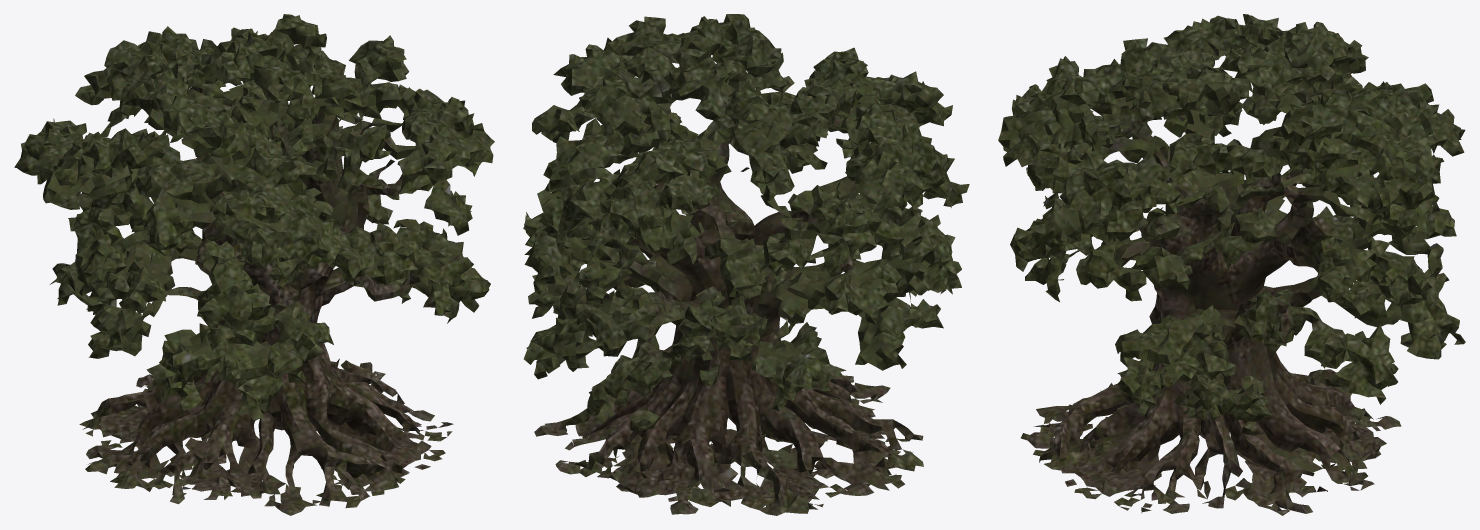
File: m6-pixelated.glb
3 renders of one model, left to right at view 1: azimuth 30°, elevation 25°; view 2: azimuth 150°, elevation 25°; view 3: azimuth 270°, elevation 25°, orthographic. The views are drawn at different scales.
Visible parts, largest first — view 1: m6.glb; view 2: m6.glb; view 3: m6.glb.
Boxes of the visible parts, x1,y1,x2,y2 form: m6.glb: (14, 14, 494, 515); m6.glb: (523, 14, 969, 515); m6.glb: (998, 14, 1465, 515).
Size of the model in its own units: 1.86 by 1.76 by 1.87.
Materials: 1 (1 with a texture image).
